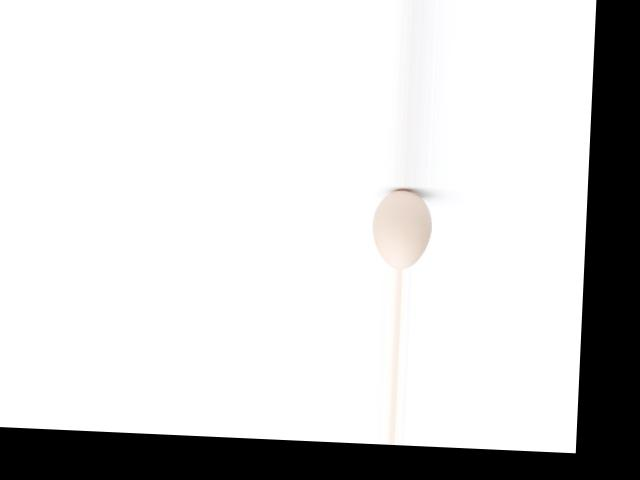egg: (371, 188, 432, 269)
